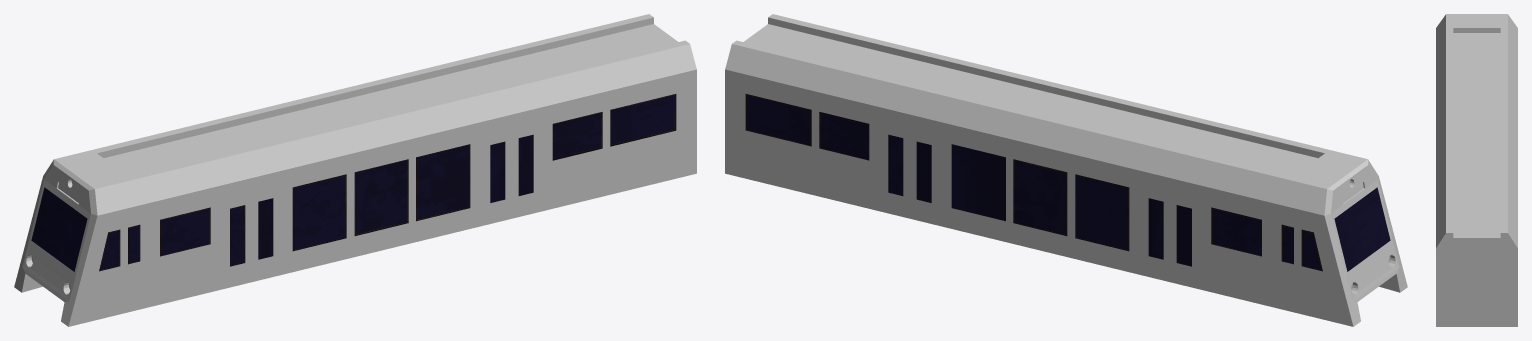
The model's file is rbs brokie.gltf.
3 renders of one model, left to right at view 1: azimuth 30°, elevation 25°; view 2: azimuth 150°, elevation 25°; view 3: azimuth 270°, elevation 25°, orthographic. The views are drawn at different scales.
Visible parts, largest first — view 1: back; view 2: back; view 3: back.
Part boxes in pixels (box(x1,y1,x2,y2)): back: box(14, 14, 696, 326); back: box(725, 14, 1407, 326); back: box(1436, 14, 1517, 326).
Size of the model in its own units: 15.81 by 3 by 2.37.
